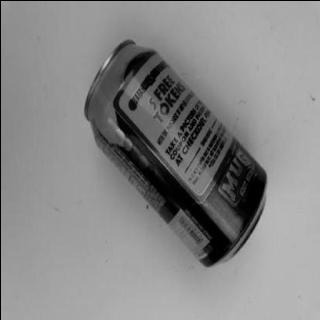alumunium_can: (82, 36, 269, 269)
